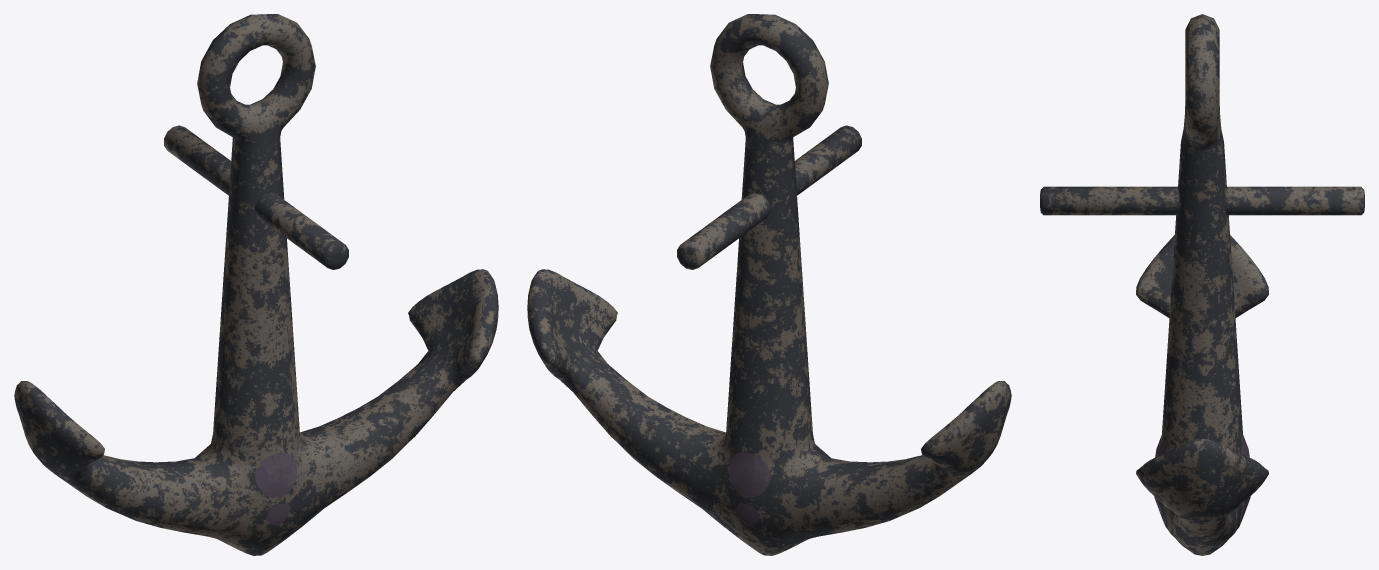
File: Anchor.fbx
3 views of the same model, side by side, from view 1: azimuth 30°, elevation 25°; view 2: azimuth 150°, elevation 25°; view 3: azimuth 270°, elevation 25° (orthographic).
Parts seen in each view (by area): view 1: Anchor; view 2: Anchor; view 3: Anchor.
Boxes of the visible parts, x1=… form: Anchor: x1=14, y1=14, x2=498, y2=555; Anchor: x1=527, y1=14, x2=1011, y2=555; Anchor: x1=1040, y1=14, x2=1364, y2=555.
Bounding box in the file's own units: 2.39 × 2.62 × 1.44.
